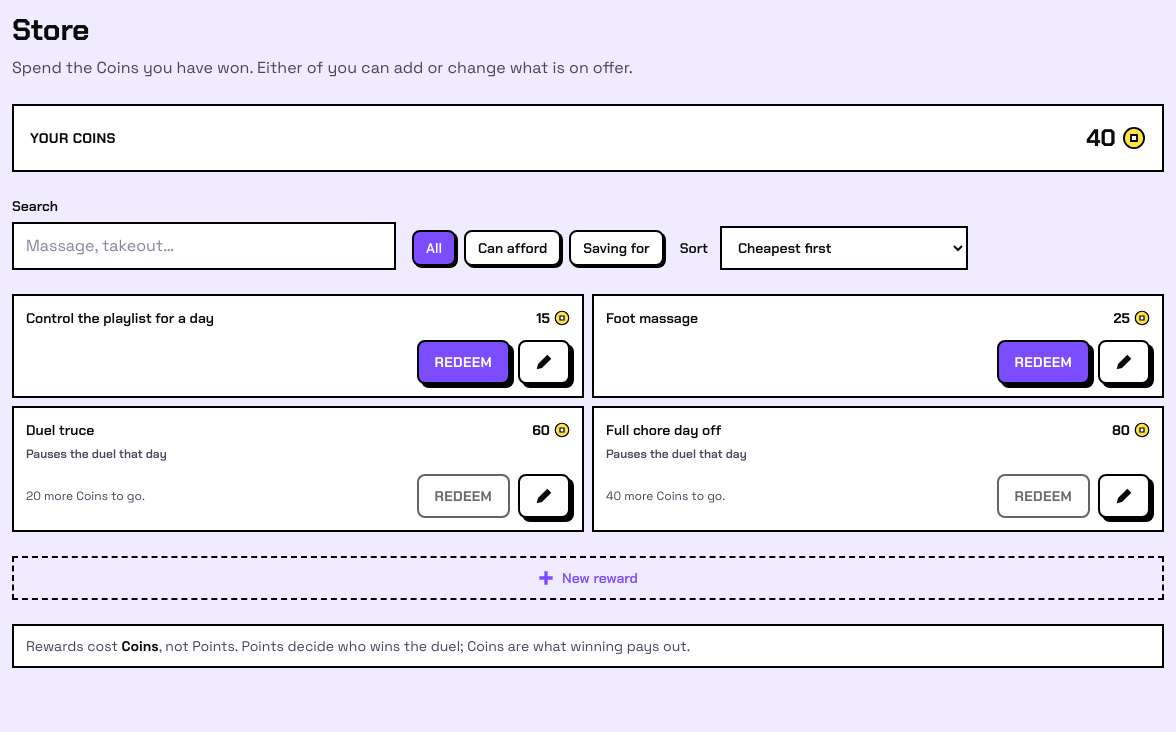
Test: redeeming › sends nothing until the confirmation is confirmed
Expected: the heading "Foot massage" is shown, [606,308,698,328]
Click the button "Redeem" below "25" at {"x": 1043, "y": 362}, box [997,340,1090,384]
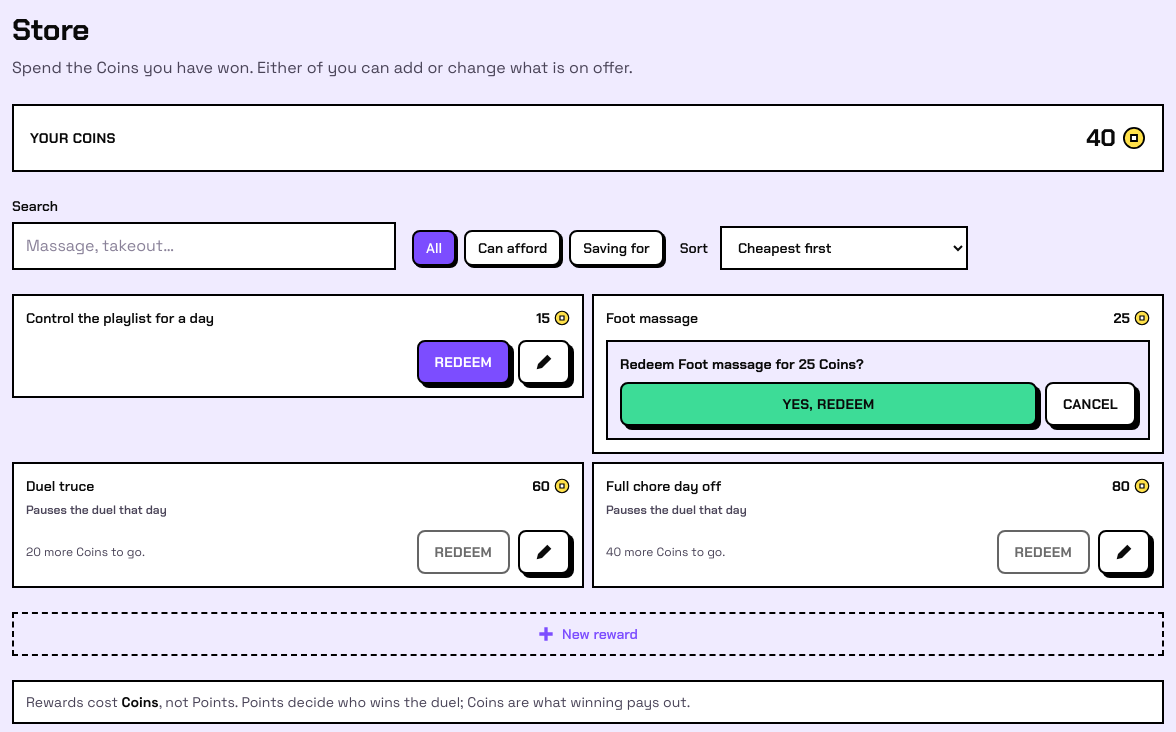
Expected: the text "Redeem Foot massage for 25 Coins?" is shown, [620,355,864,373]
